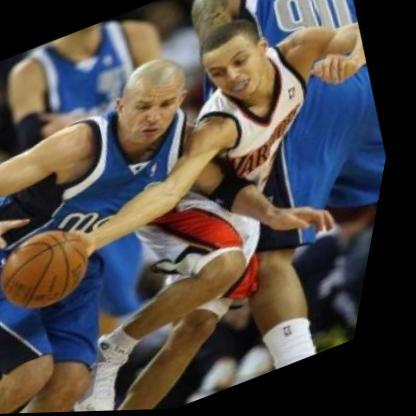basketball: (0, 216, 116, 321)
